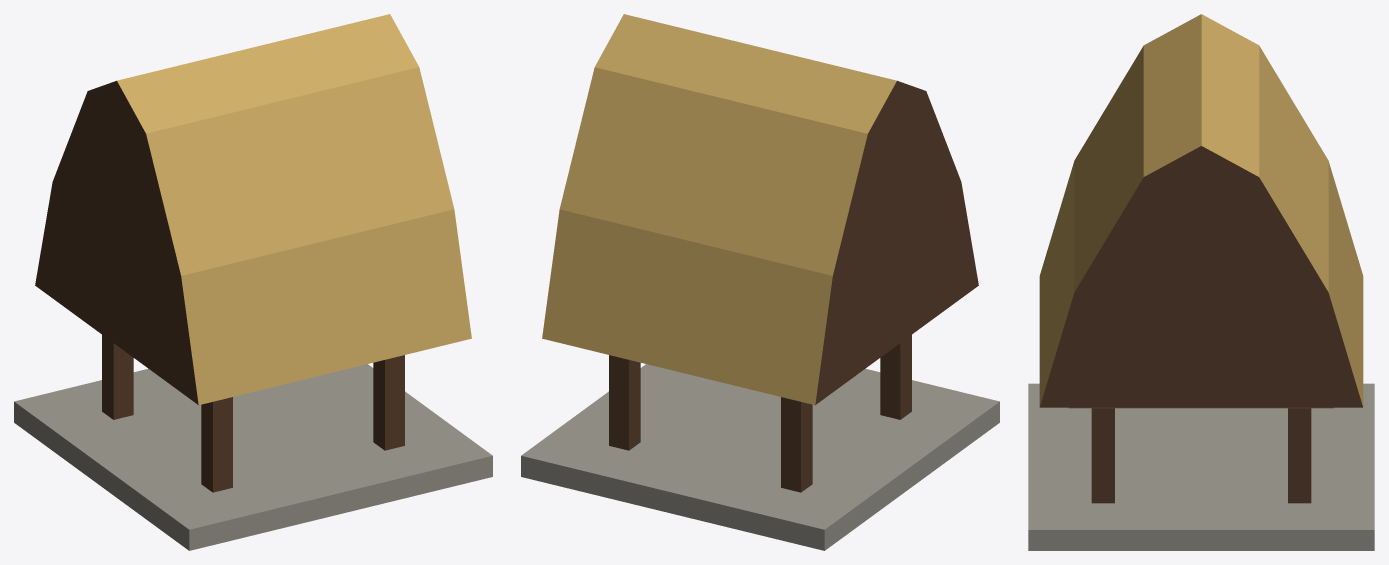
Rendered from rizerie_bali.glb.
3 views of the same model, side by side, from view 1: azimuth 30°, elevation 25°; view 2: azimuth 150°, elevation 25°; view 3: azimuth 270°, elevation 25° (orthographic).
Parts seen in each view (by area): view 1: rizerie_bali; view 2: rizerie_bali; view 3: rizerie_bali.
Boxes of the visible parts, x1=… form: rizerie_bali: x1=14, y1=14, x2=492, y2=550; rizerie_bali: x1=521, y1=14, x2=999, y2=550; rizerie_bali: x1=1028, y1=14, x2=1374, y2=550.
Size of the model in its own units: 6 by 7.6 by 6.
Materials: 1 (1 with a texture image).
